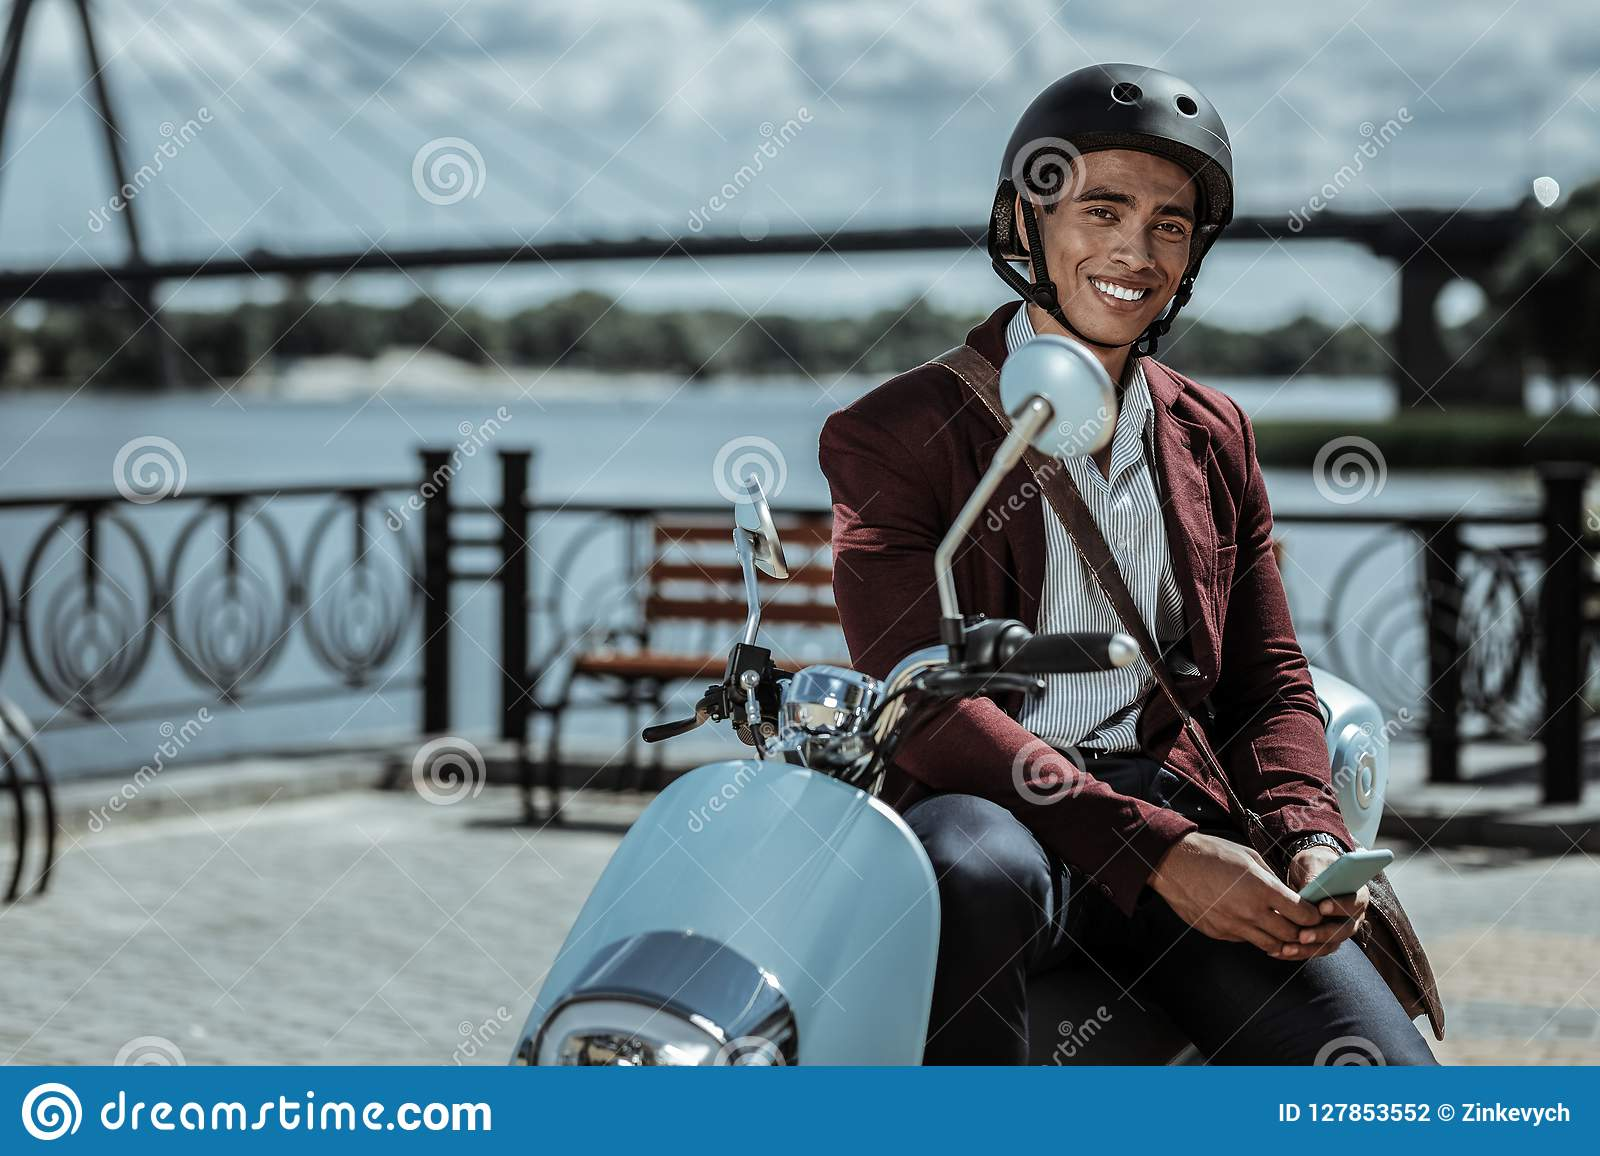helmet: (998, 77, 1251, 219)
